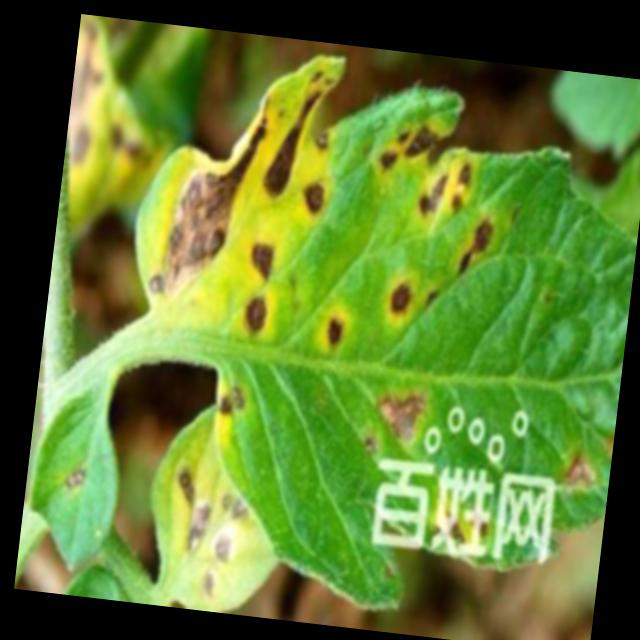Early_blight: (146, 77, 272, 311), (259, 65, 337, 201), (374, 114, 458, 186), (165, 465, 215, 555), (410, 158, 474, 226), (370, 384, 432, 447), (451, 211, 498, 282), (429, 507, 492, 548), (295, 169, 338, 224), (241, 230, 281, 286), (380, 271, 414, 326), (234, 293, 274, 339), (560, 450, 602, 493), (212, 377, 247, 422), (206, 522, 238, 566), (196, 565, 223, 602), (324, 316, 347, 348), (61, 467, 87, 489)
